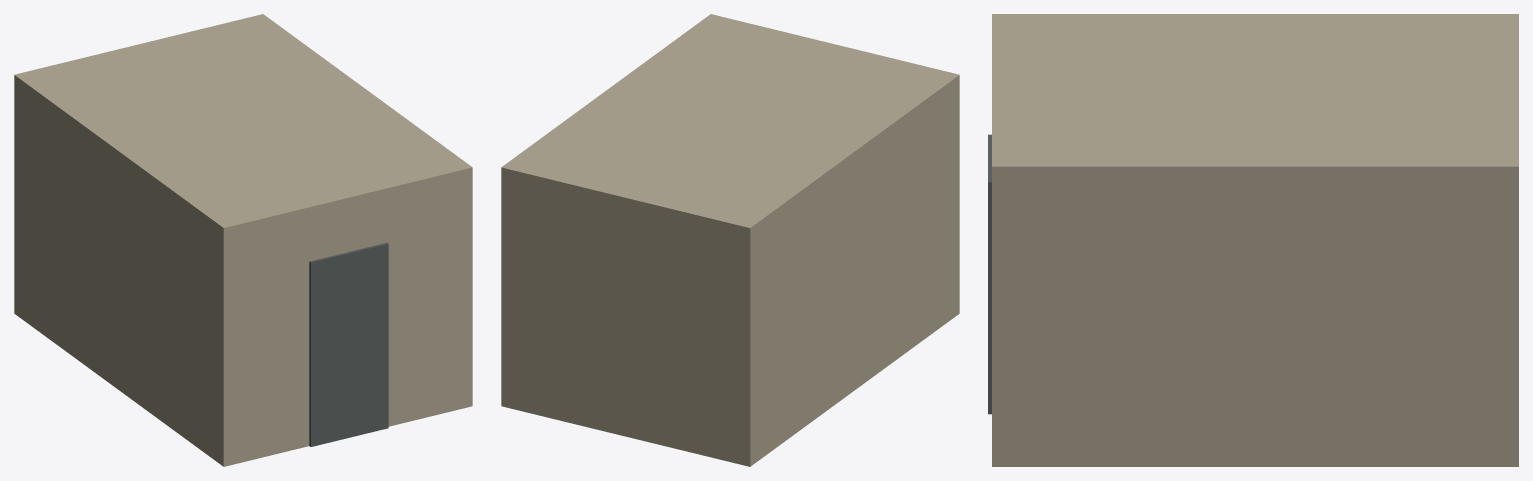
The model's file is chu.glb.
3 views of the same model, side by side, from view 1: azimuth 30°, elevation 25°; view 2: azimuth 150°, elevation 25°; view 3: azimuth 270°, elevation 25° (orthographic). The views are drawn at different scales.
Parts seen in each view (by area): view 1: chu, chuDoor; view 2: chu; view 3: chu, chuDoor.
Part boxes in pixels (bbox=[...]): chu: bbox=[14, 14, 472, 466]; chuDoor: bbox=[309, 242, 388, 446]; chu: bbox=[501, 14, 959, 466]; chu: bbox=[992, 14, 1518, 466]; chuDoor: bbox=[988, 134, 991, 414].
Bounding box in the file's own units: 2.4 × 2.2 × 3.52.
